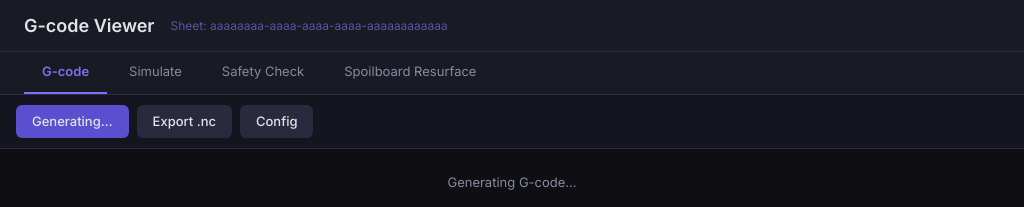
it: Tab navigation › clicking Safety Check tab shows Run Safety Check button
This screenshot has width=1024, height=207.
Click the button "Safety Check" at (263, 73), box x1=204 y1=52 x2=322 y2=94
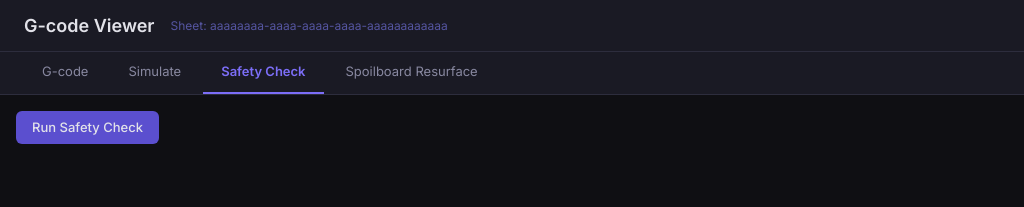
Result: the button "Run Safety Check" is shown at x1=16 y1=110 x2=159 y2=144
